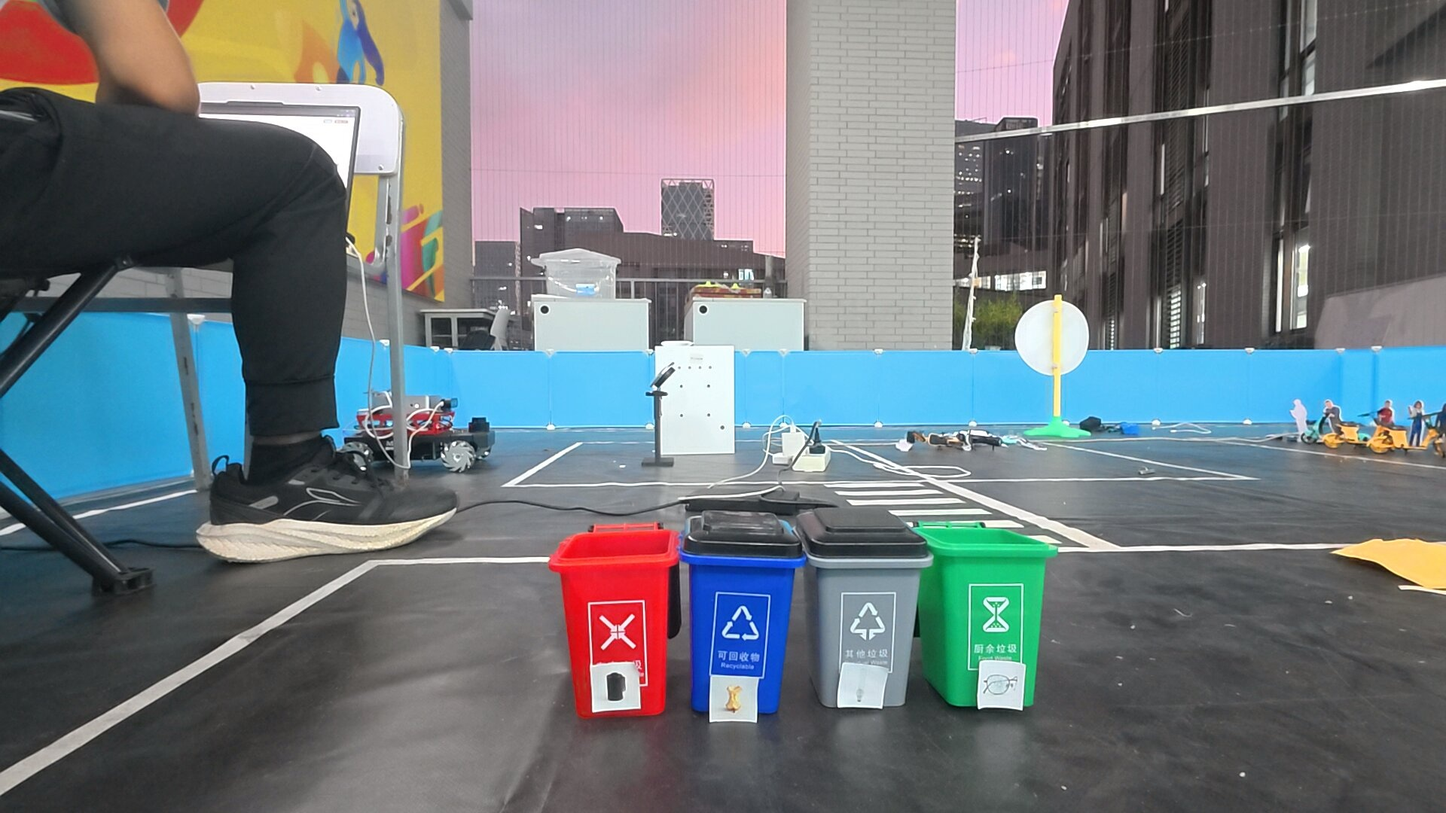food_trash: (712, 677, 753, 717)
hazardous_trash: (596, 667, 636, 708)
other_trash: (979, 663, 1024, 707), (841, 668, 883, 705)
